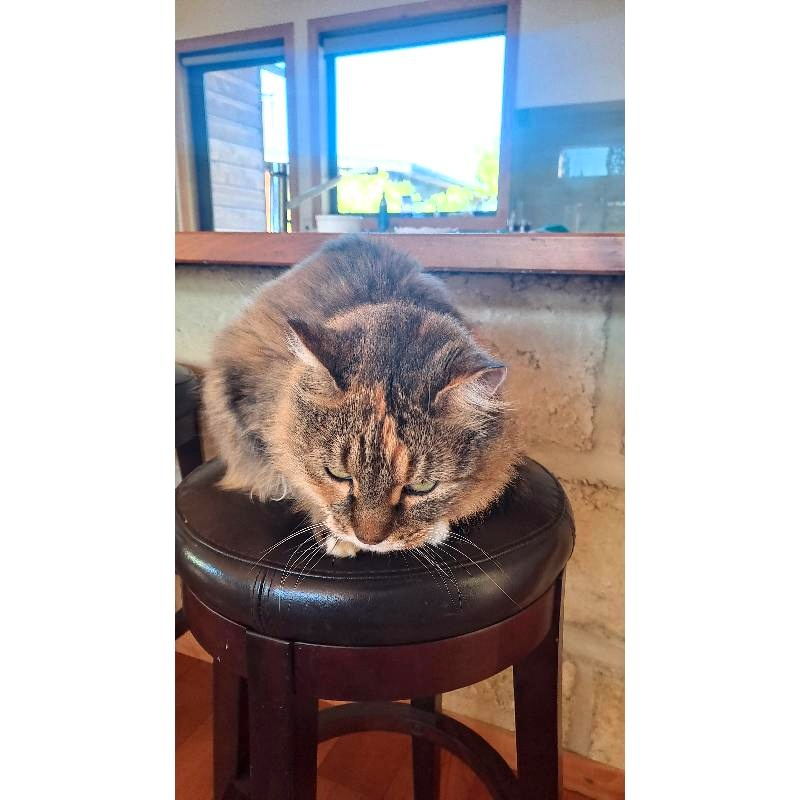yellow: (197, 232, 521, 560)
